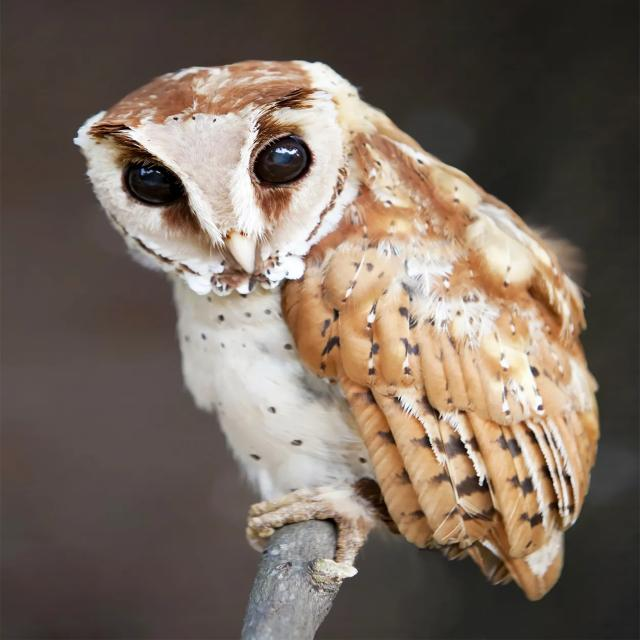owl: (38, 46, 614, 612)
